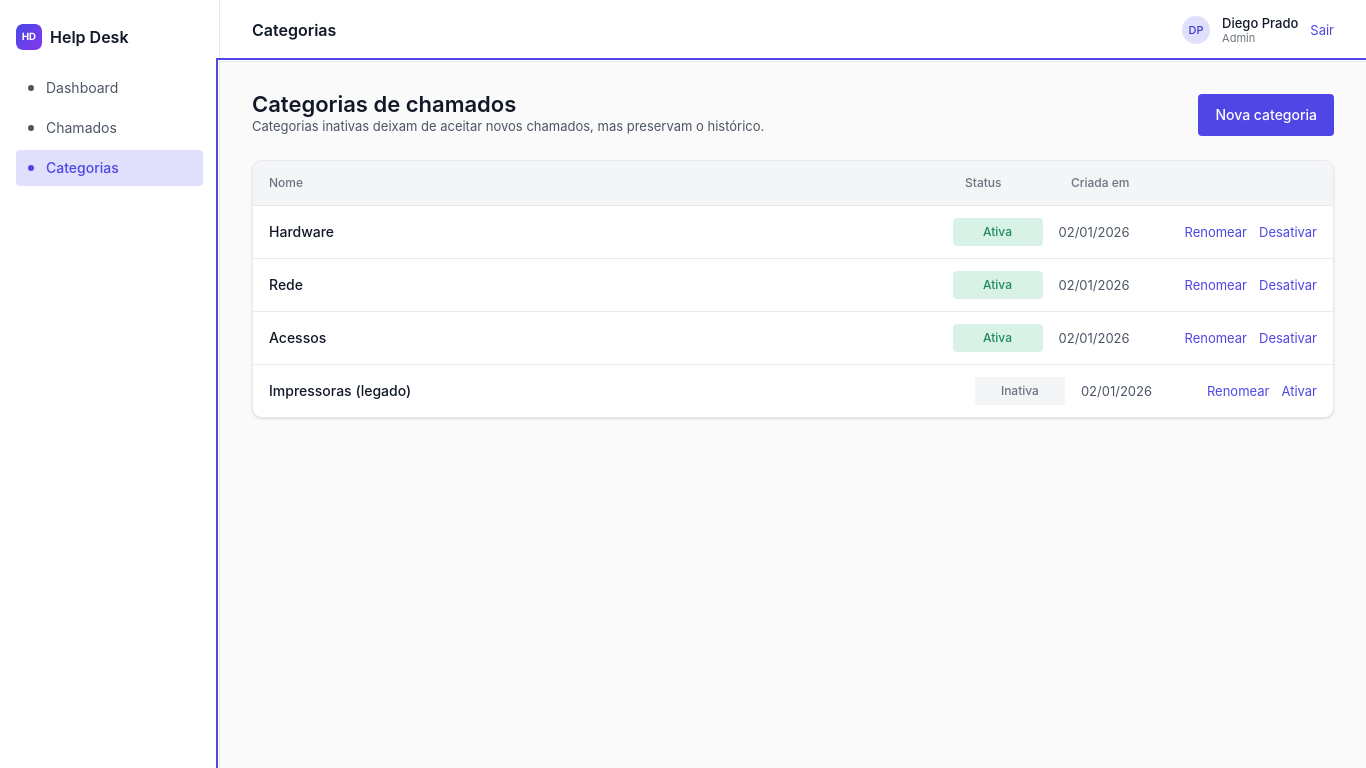
Test case: CategoriesAdminPage — Admin › cria uma categoria nova
The image size is (1366, 768).
Expected: the text "Hardware" is shown, [269,223,334,240]
Click the button "Nova categoria". click: (1266, 115)
box: [1198,94,1334,136]
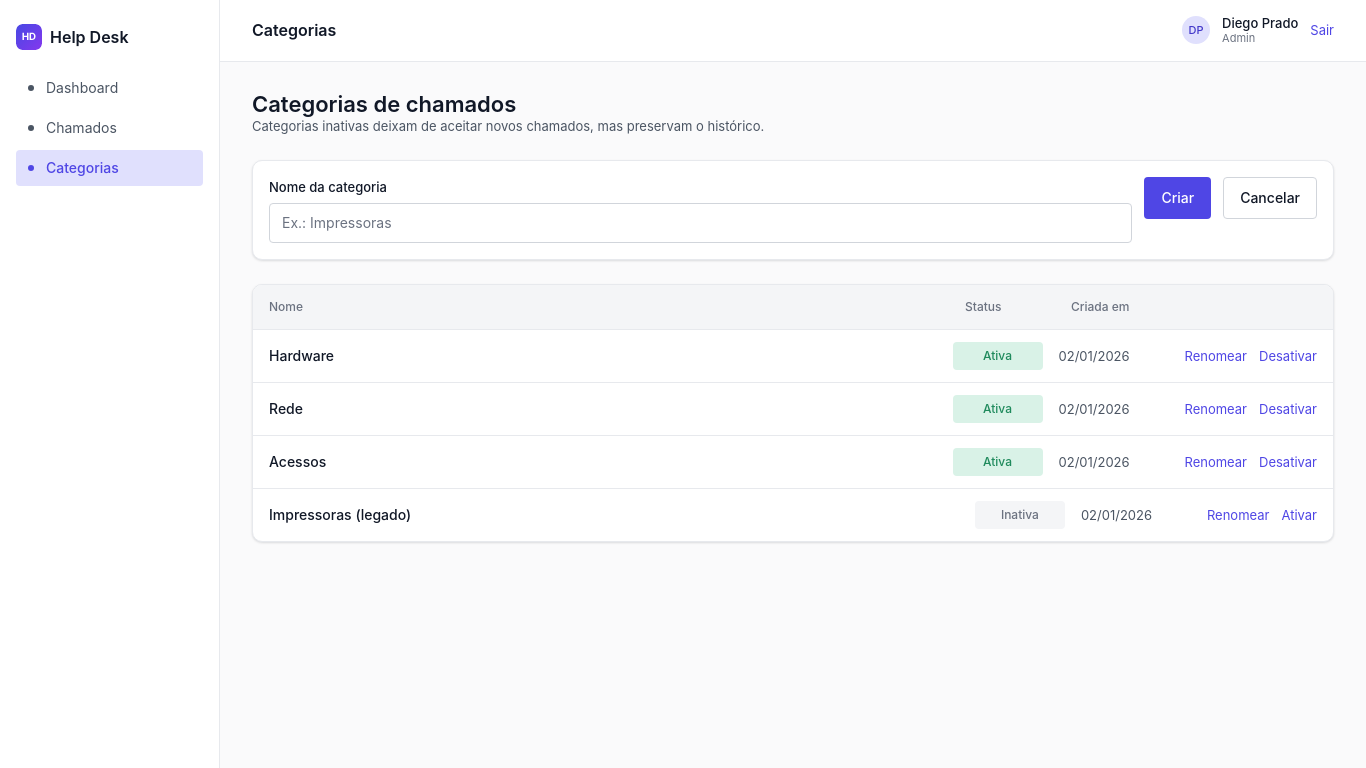
Type "Telefonia" into the field labelled "Nome da categoria". click: (701, 223)
box: [269,203,1132,243]
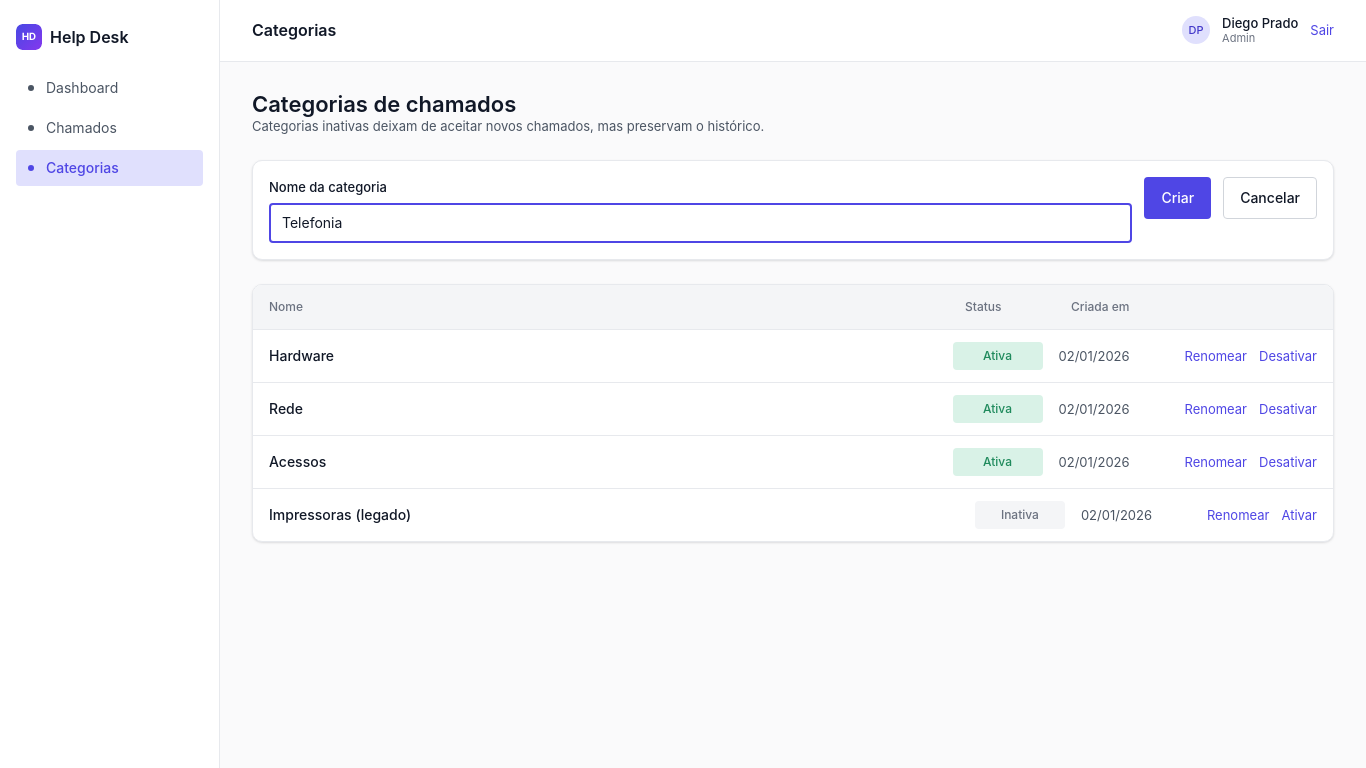
Click the button "Criar". click: (1178, 198)
box: [1144,177,1211,219]
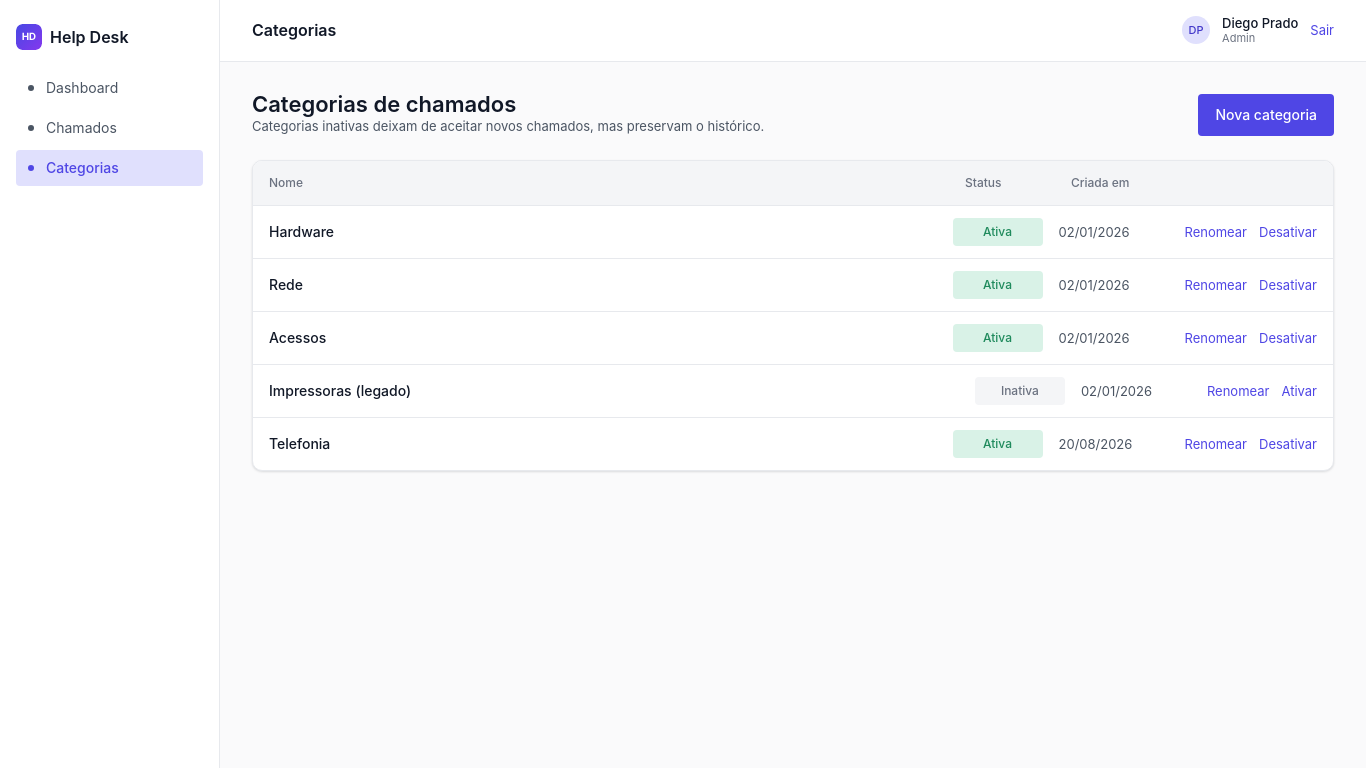
Expected: the text "Telefonia" is shown, [269,435,330,452]
